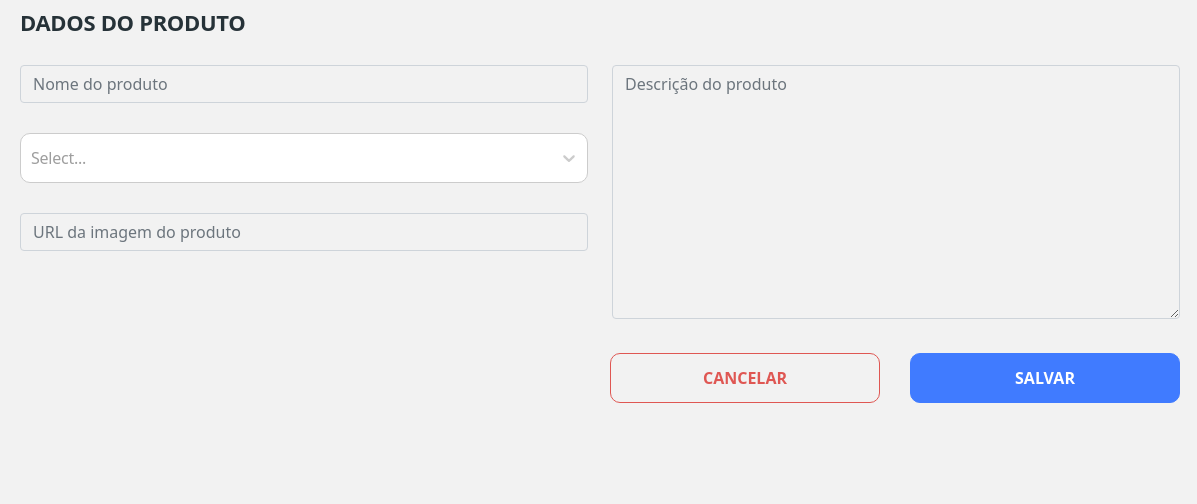
Scenario: Product form create tests › Should show five validation errors when just submit form without filling
This screenshot has width=1197, height=504.
Click the button "SALVAR" at {"x": 1045, "y": 378}, box 910,353 -> 1180,403
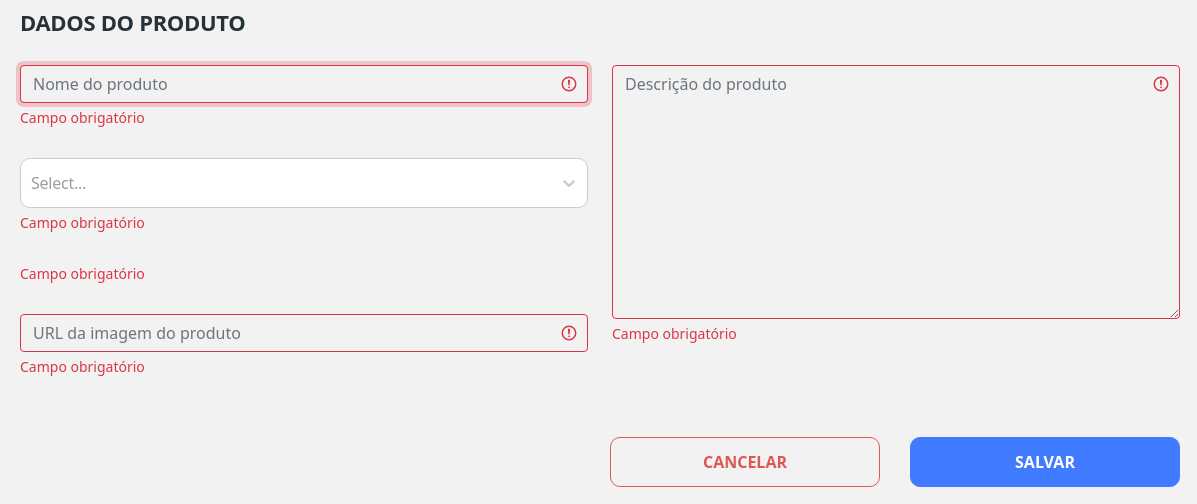
expect the text "Campo obrigatório" is shown 5 times: met, box 20,108 -> 145,127; 20,213 -> 145,232; 20,264 -> 145,283; 20,357 -> 145,376; 612,324 -> 737,343
